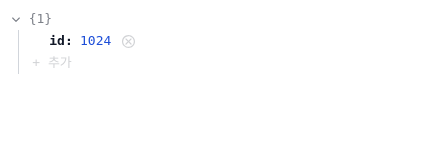
TxJsonTree — 고치기 › 타입 칸은 지금 타입에서 시작한다
Click the button named "id 고치기" at (96, 41), box x1=77 y1=30 x2=114 y2=52
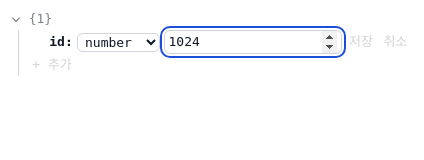
Expected: the dropdown named "타입" shows "number", x1=77 y1=33 x2=160 y2=52
